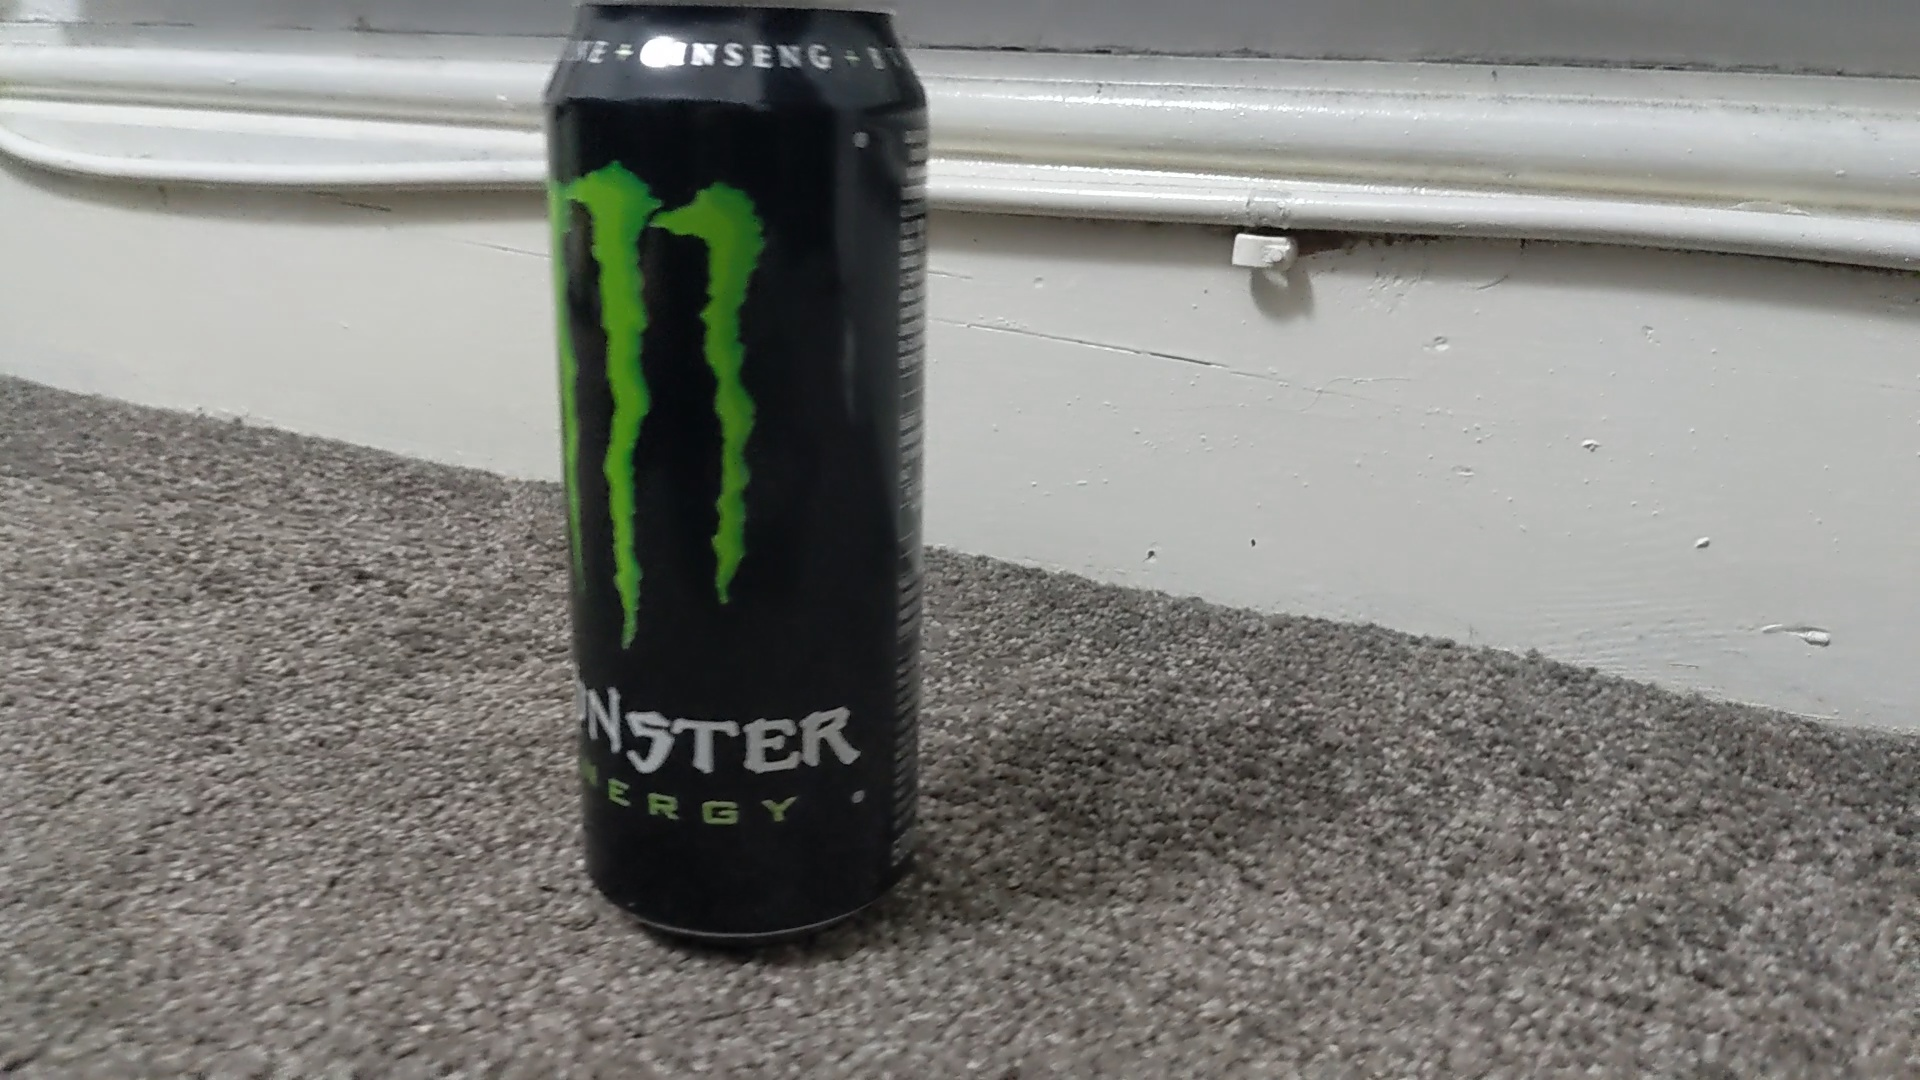monster-original: (546, 1, 928, 945)
